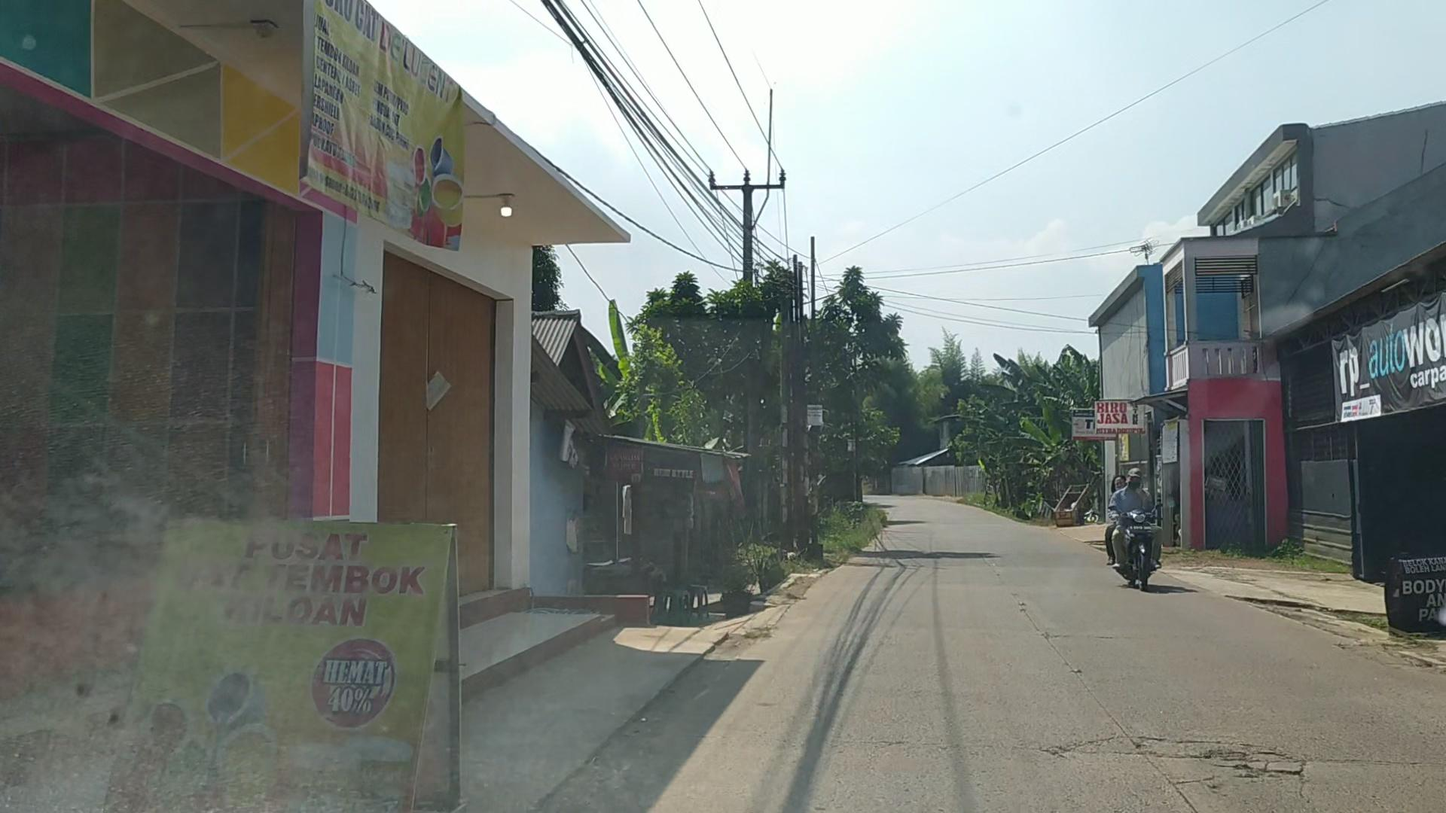pothole: (1066, 726, 1319, 797)
